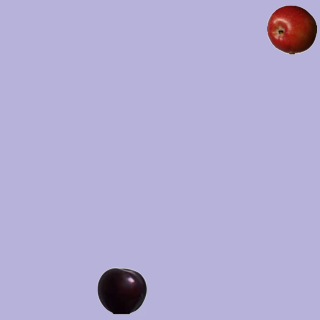Apple Braeburn: (266, 4, 316, 54)
Cherry Wax Black: (96, 265, 146, 315)
